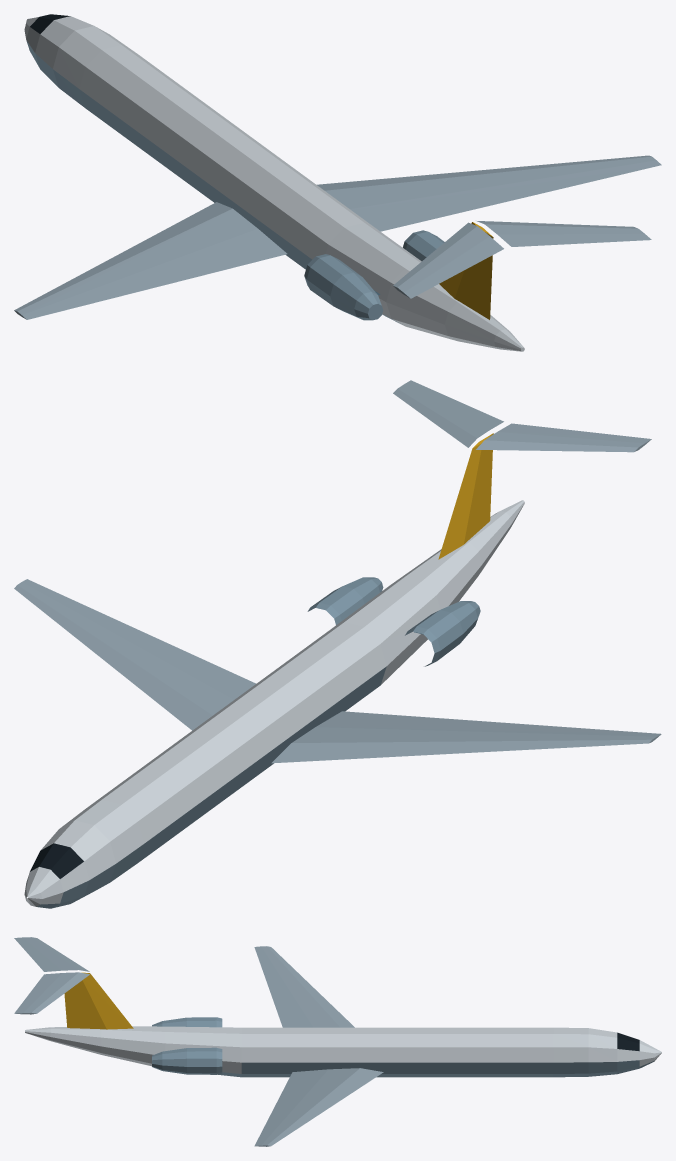
3 renders of one model, top to bottom at view 1: azimuth 30°, elevation 25°; view 2: azimuth 150°, elevation 25°; view 3: azimuth 270°, elevation 25°, orthographic. The views are drawn at different scales.
Parts seen in each view (by area): view 1: lod0; view 2: lod0; view 3: lod0.
Boxes of the visible parts, x1,y1,x2,y2 form: lod0: (14, 14, 661, 351); lod0: (14, 380, 661, 908); lod0: (14, 937, 661, 1146).
Size of what is drawn, in the model's own units: 0.7273 by 0.1753 by 1.
